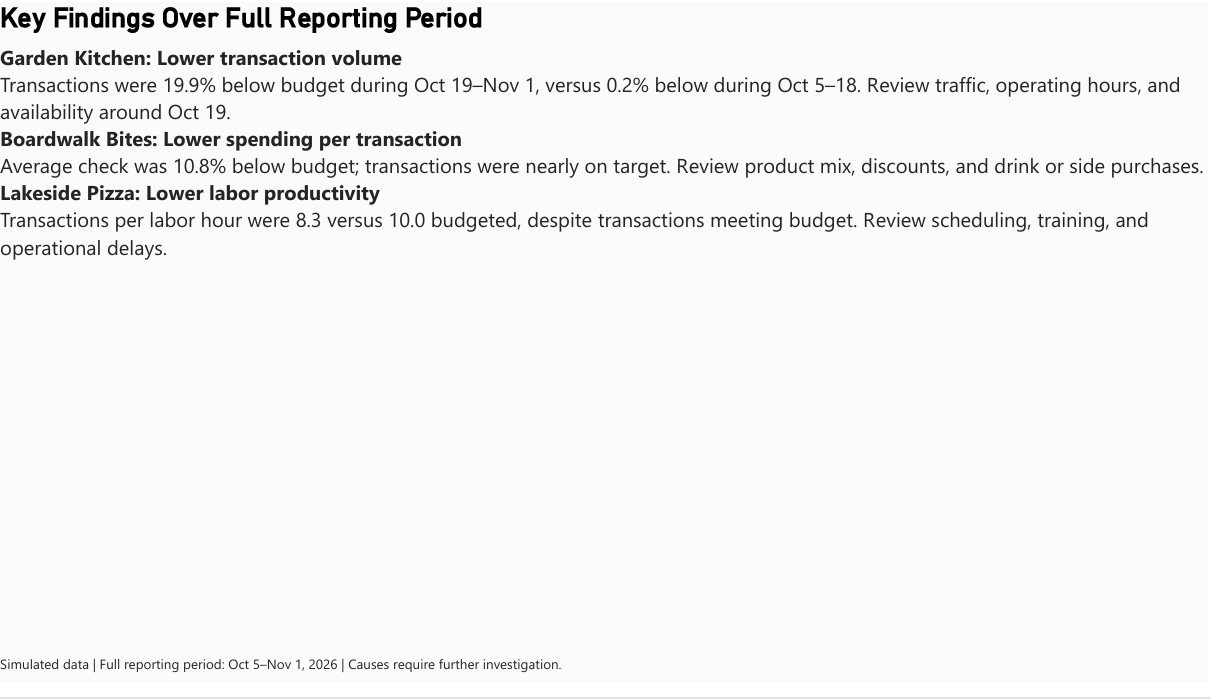

Layout of this report page (visuals, bound fields, positions):
{"tool":"powerbi","page":{"name":"Key Findings","canvas":[1920,1080],"ordinal":2},"visuals":[{"type":"textbox","title":"Key Findings Over Full Reporting Period","box":[0,0,1920.5,784.9],"z":0},{"type":"textbox","box":[0,1036.4,1920.5,43.1],"z":1000}]}

Visuals, with their boxes in screenshot pixels (x1, y1, x2, y2), scaled from the page's 1920x1080 canvas onto the 1211x699 screenshot:
"Key Findings Over Full Reporting Period" textbox: 0,0,1210,508
textbox: 0,671,1210,698
